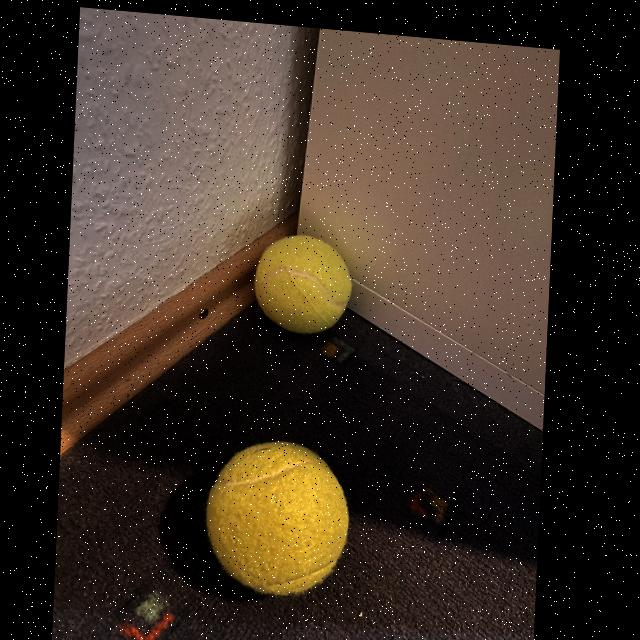Tennisball: (205, 442, 349, 596), (254, 236, 352, 334)
